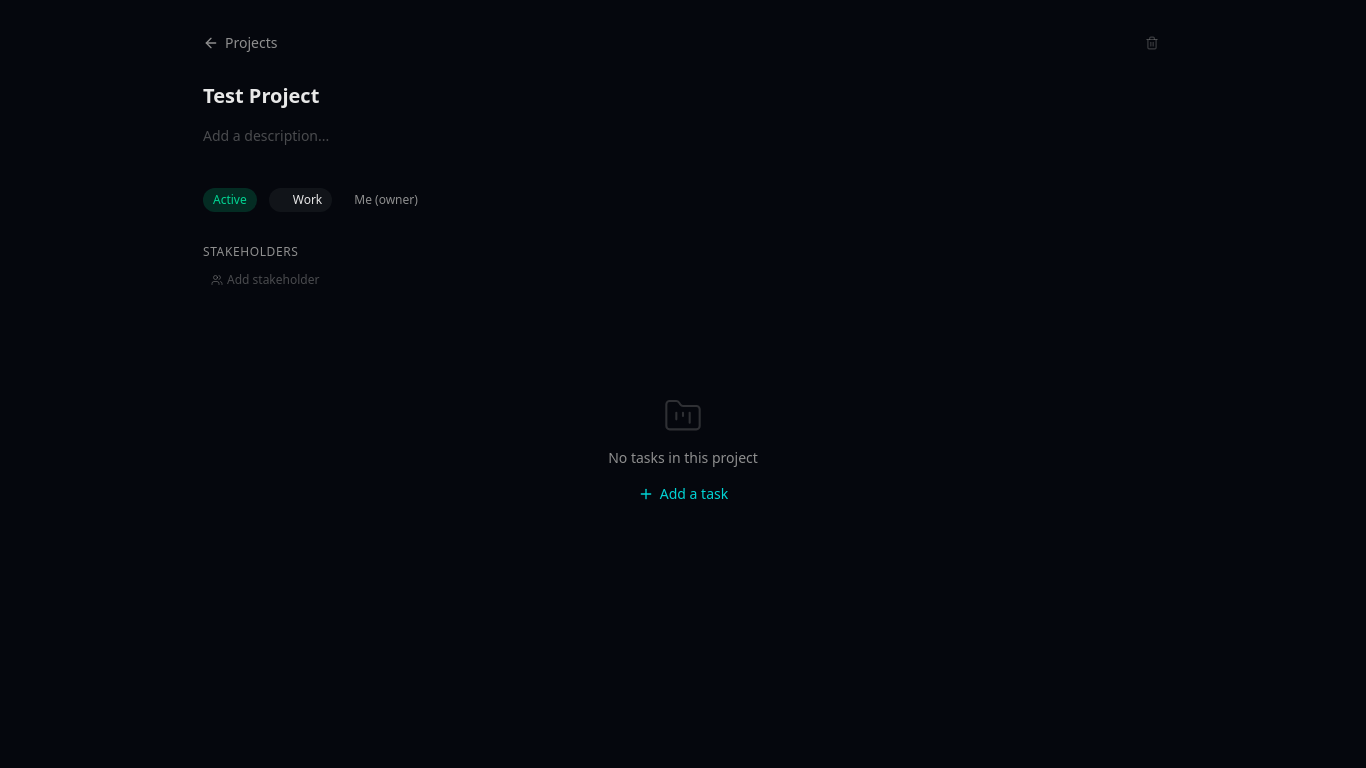
ProjectDetailView › opens context picker and shows all contexts plus None option
Click the button with test id "context-selector": [300, 200] box top-left (269, 188), bottom-right (332, 212)
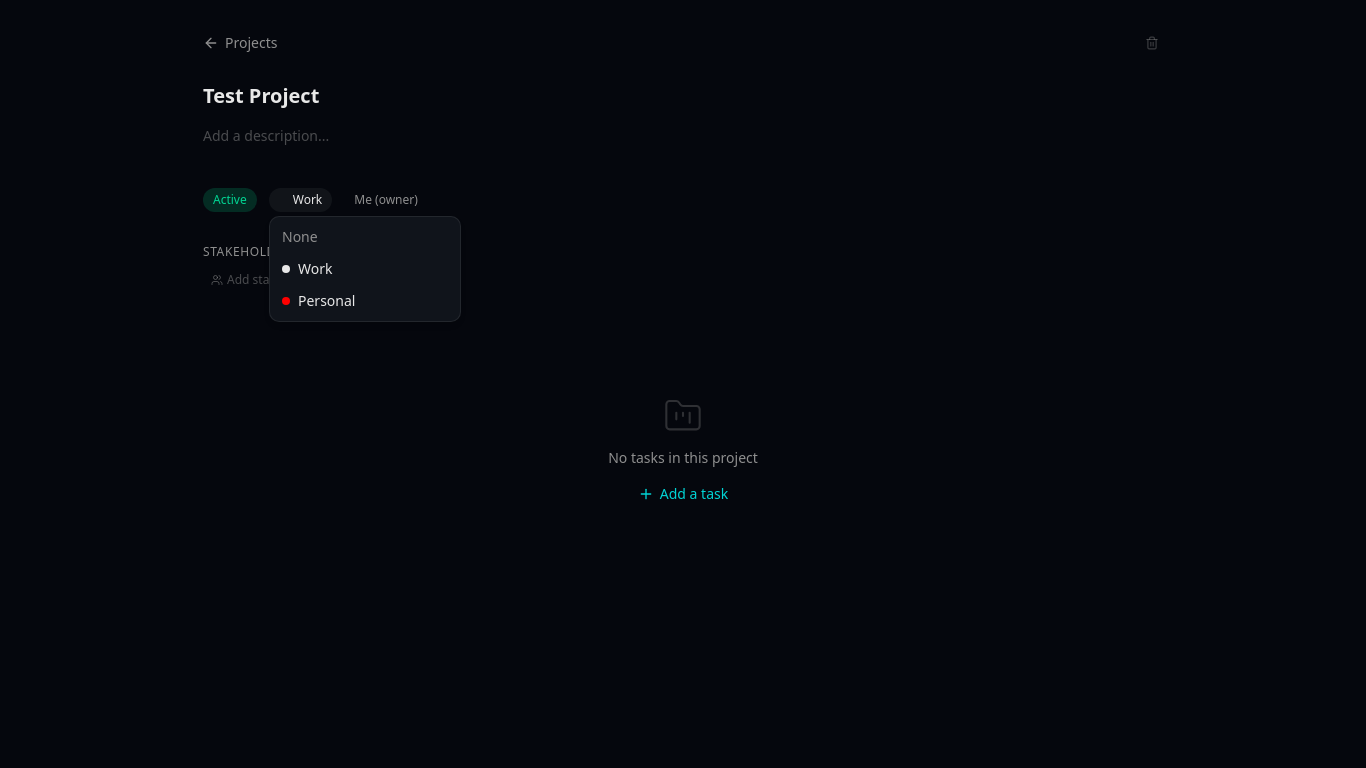
Check: the option "None" is shown, box top-left (274, 221), bottom-right (456, 253)
Check: the option "Work" is shown, box top-left (274, 253), bottom-right (456, 285)
Check: the option "Personal" is shown, box top-left (274, 285), bottom-right (456, 317)
